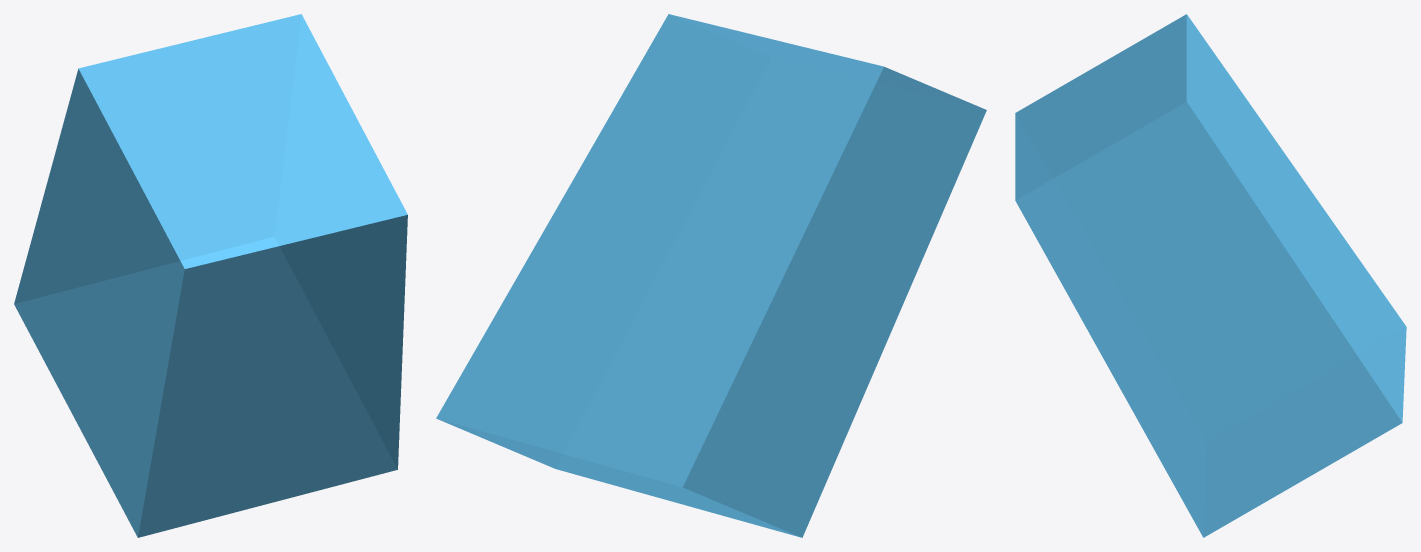
File: Event_421556567_HBrechit_15.fbx
3 renders of one model, left to right at view 1: azimuth 30°, elevation 25°; view 2: azimuth 150°, elevation 25°; view 3: azimuth 270°, elevation 25°, orthographic. The views are drawn at different scales.
Visible parts, largest first — view 1: Model; view 2: Model; view 3: Model.
Boxes of the visible parts, bbox=[...] form: Model: bbox=[14, 14, 407, 537]; Model: bbox=[436, 14, 986, 537]; Model: bbox=[1015, 14, 1406, 537].
Size of the model in its own units: 0.6065 by 0.8717 by 0.7732.
